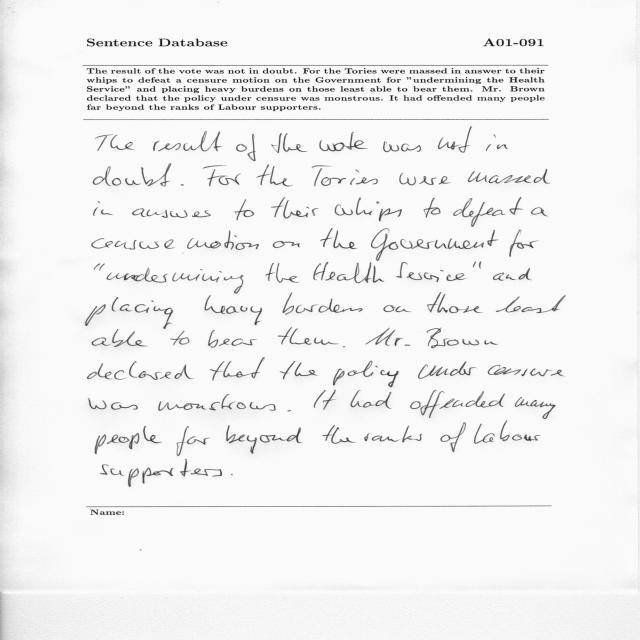word: (371, 228, 499, 261), (107, 268, 244, 294), (101, 459, 222, 487), (85, 297, 173, 329), (410, 390, 505, 418), (226, 425, 302, 454), (453, 197, 524, 227), (88, 361, 194, 380), (158, 394, 276, 411), (95, 426, 162, 454), (93, 164, 171, 187), (282, 293, 363, 315), (333, 361, 399, 388), (205, 295, 263, 325), (335, 198, 402, 222), (474, 421, 541, 444), (313, 262, 385, 283), (187, 230, 259, 250), (396, 262, 467, 282), (427, 328, 498, 348), (312, 166, 378, 187), (153, 131, 222, 151), (210, 357, 265, 381), (496, 295, 566, 313), (468, 169, 550, 184), (427, 292, 483, 313), (278, 327, 338, 345), (418, 361, 477, 379), (271, 197, 319, 219), (92, 329, 148, 347), (92, 238, 175, 250), (177, 426, 210, 456), (364, 426, 422, 443), (319, 132, 368, 151), (515, 397, 556, 419), (438, 127, 472, 153), (208, 330, 257, 348), (488, 365, 565, 376), (509, 229, 539, 257), (366, 328, 411, 346), (203, 166, 241, 187), (320, 228, 358, 249), (257, 165, 293, 187), (132, 208, 211, 218), (440, 422, 466, 452), (351, 390, 392, 409), (271, 133, 308, 153), (265, 263, 300, 283), (280, 361, 318, 379), (96, 134, 135, 151), (322, 425, 356, 444), (399, 173, 451, 185), (88, 398, 138, 409), (236, 134, 256, 161), (493, 268, 532, 281), (314, 390, 336, 410), (235, 199, 255, 220), (383, 141, 421, 152), (486, 135, 508, 152), (424, 198, 441, 218), (170, 331, 190, 346), (94, 201, 113, 216), (384, 305, 412, 312), (273, 241, 300, 248), (531, 208, 548, 217), (94, 263, 105, 271), (473, 262, 482, 269), (288, 410, 292, 412), (181, 184, 184, 186), (343, 346, 346, 347), (231, 474, 233, 475)
